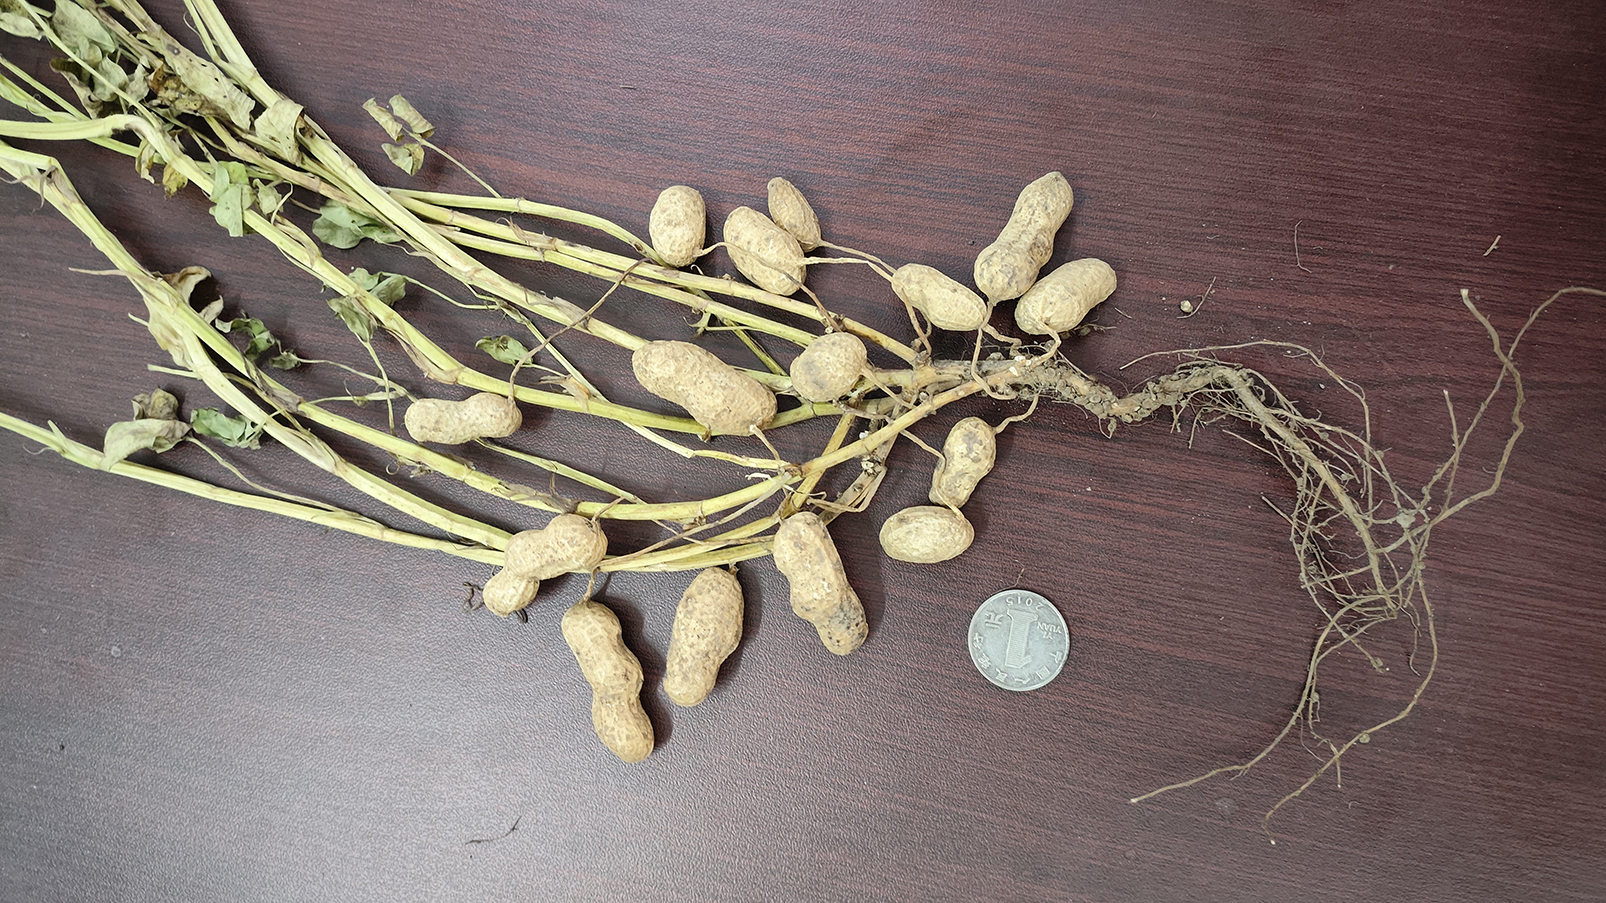h: (559, 601, 654, 764), (773, 509, 870, 655), (973, 169, 1077, 300), (633, 338, 777, 431), (482, 513, 604, 616), (663, 565, 748, 706), (1011, 258, 1118, 335), (889, 262, 988, 332), (404, 390, 522, 445), (928, 415, 997, 506), (878, 504, 976, 565), (790, 331, 865, 404), (647, 181, 707, 265)
